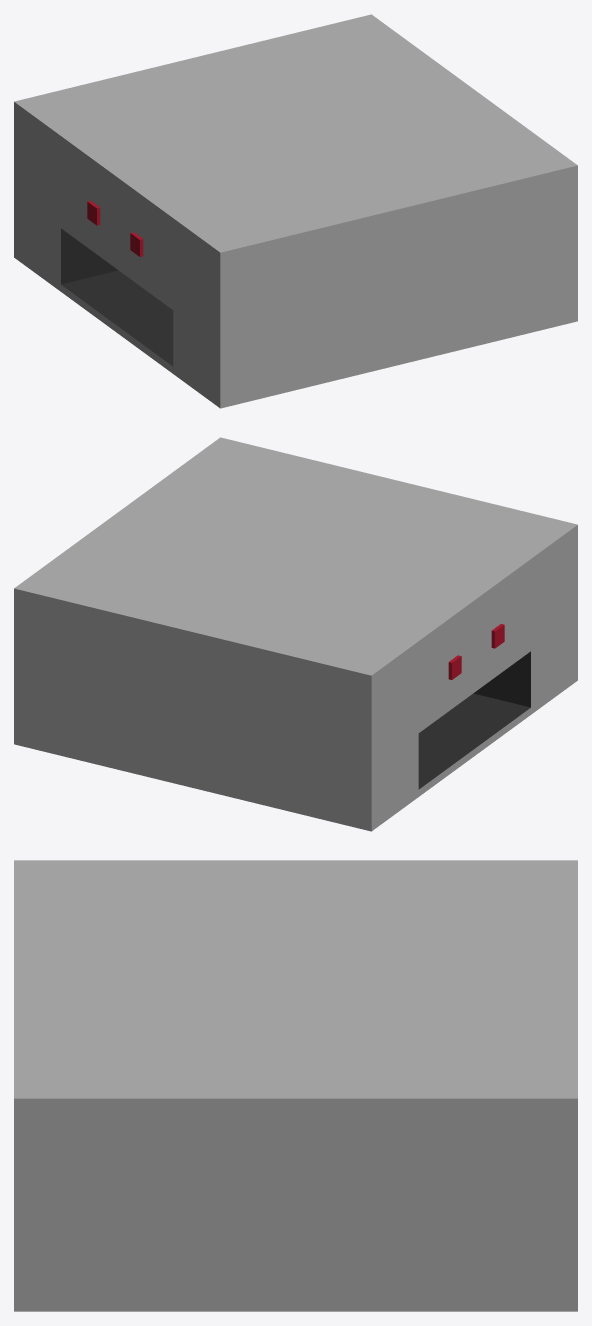
The model's file is FlatCannonDude.fbx.
The picture shows the model from 3 angles, top to bottom: view 1: azimuth 30°, elevation 25°; view 2: azimuth 150°, elevation 25°; view 3: azimuth 270°, elevation 25°; orthographic projection. The views are drawn at different scales.
Parts seen in each view (by area): view 1: FlatCanonDude; view 2: FlatCanonDude; view 3: FlatCanonDude.
Part boxes in pixels (bbox=[...]): FlatCanonDude: bbox=[14, 14, 577, 408]; FlatCanonDude: bbox=[14, 437, 577, 831]; FlatCanonDude: bbox=[14, 860, 577, 1311].
Size of the model in its own units: 12.82 by 12.69 by 5.29.
